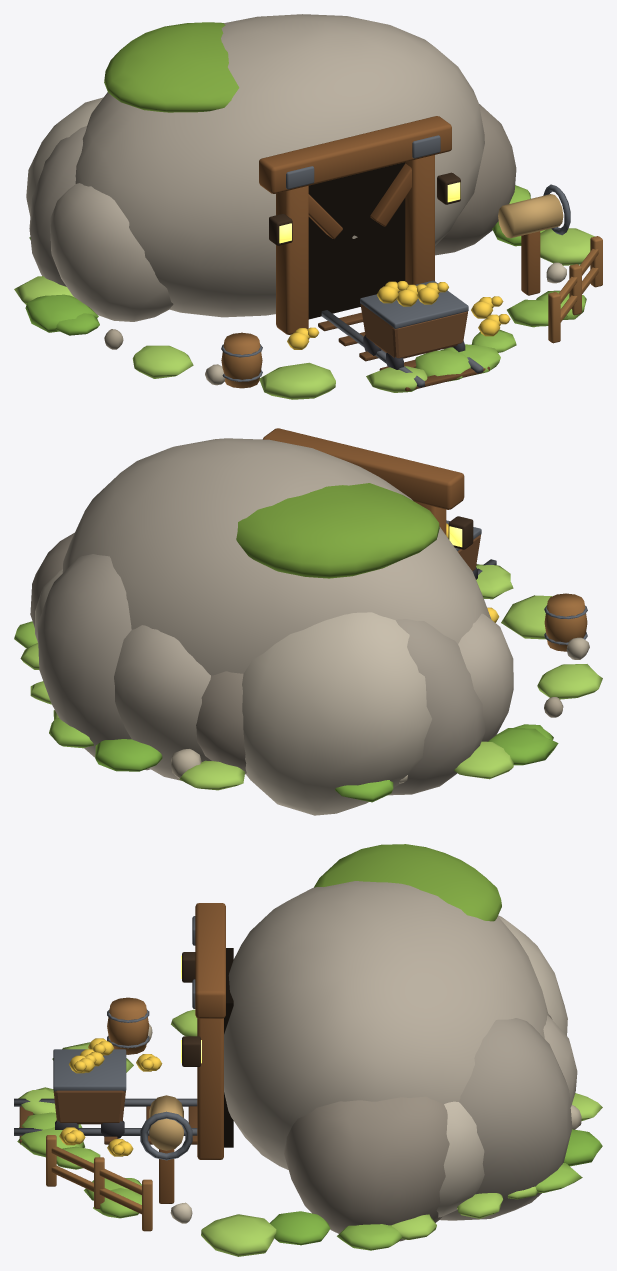
File: m_start.glb
3 renders of one model, top to bottom at view 1: azimuth 30°, elevation 25°; view 2: azimuth 150°, elevation 25°; view 3: azimuth 270°, elevation 25°, orthographic. The views are drawn at different scales.
Parts seen in each view (by area): view 1: root_matte#b4aa9a, root_matte#8a5a30, mouthDark, moss, root_matte#a8d060, root_matte#968c7e, root_matte#9a6a3a, root_matte#94c252, root_metal#5e646c, root_matte#a39a8c, cart, root_matte#7fb243 (+7 smaller); view 2: root_matte#b4aa9a, root_matte#c2b8a6, root_matte#a39a8c, moss, root_matte#a8d060, root_matte#8a5a30, root_matte#968c7e, root_matte#7fb243, root_matte#9a6a3a, root_matte#94c252, root_matte#b8ad98, root_matte#3a2a1c; view 3: root_matte#b4aa9a, root_matte#968c7e, root_matte#a39a8c, root_matte#8a5a30, moss, root_matte#a8d060, root_matte#c2b8a6, root_matte#9a6a3a, root_matte#94c252, root_metal#5e646c, root_matte#7fb243, cart (+5 smaller).
Part boxes in pixels (x1,y1,x2,y2): root_matte#b4aa9a: (50,14,484,321); root_matte#8a5a30: (259,116,540,334); mouthDark: (308,162,405,319); moss: (104,22,239,112); root_matte#a8d060: (14,228,594,399); root_matte#968c7e: (435,104,516,255); root_matte#9a6a3a: (221,236,602,388); root_matte#94c252: (415,185,586,381); root_metal#5e646c: (221,135,570,381); root_matte#a39a8c: (29,126,86,286); cart: (360,304,467,358); root_matte#7fb243: (25,221,544,335); root_matte#b4aa9a: (62,438,513,780); root_matte#c2b8a6: (35,569,431,815); root_matte#a39a8c: (37,554,485,795); moss: (236,483,439,578); root_matte#a8d060: (20,564,602,790); root_matte#8a5a30: (263,428,464,535); root_matte#968c7e: (30,533,246,774); root_matte#7fb243: (95,724,558,802); root_matte#9a6a3a: (544,593,587,651); root_matte#94c252: (14,621,93,748); root_matte#b8ad98: (171,637,589,778); root_matte#3a2a1c: (448,516,473,549); root_matte#b4aa9a: (224,881,577,1169); root_matte#968c7e: (284,1014,552,1241); root_matte#a39a8c: (440,1018,572,1220); root_matte#8a5a30: (159,903,225,1203); moss: (314,844,501,921); root_matte#a8d060: (18,1009,602,1256); root_matte#c2b8a6: (436,915,567,1217); root_matte#9a6a3a: (46,997,152,1231); root_matte#94c252: (17,1112,582,1250); root_metal#5e646c: (53,916,195,1160); root_matte#7fb243: (270,1129,602,1245); cart: (53,1090,125,1124).
Bounding box in the file's own units: 3.14 × 1.61 × 3.07.
